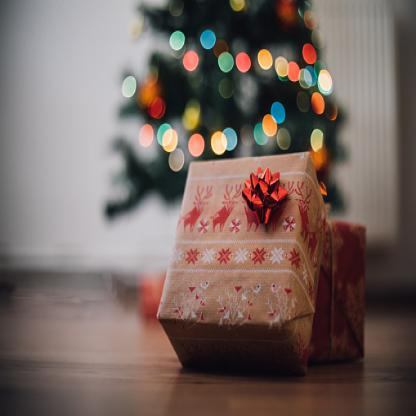present: (152, 135, 325, 360)
